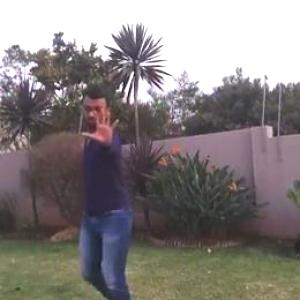follow_hand: (78, 103, 124, 149)
